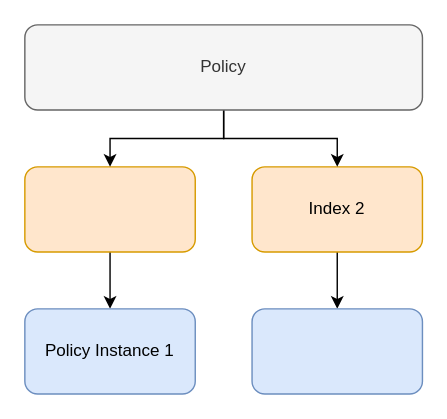
This 447x419 diagram has some shape labels left out. Here are the shapes that lost their labels. From the top down, the centre of each, then its label:
At point (109, 208): "Index 1".
At point (336, 350): "Policy Instance 2".
